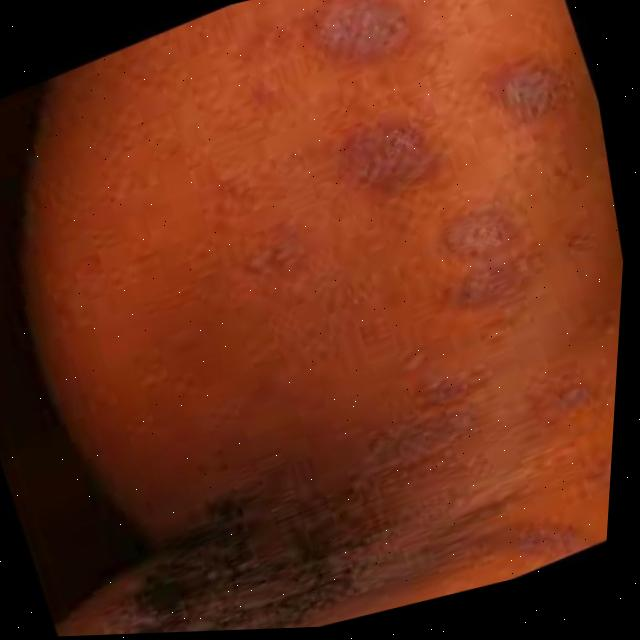Eczema: (285, 0, 601, 355), (70, 434, 476, 636)
